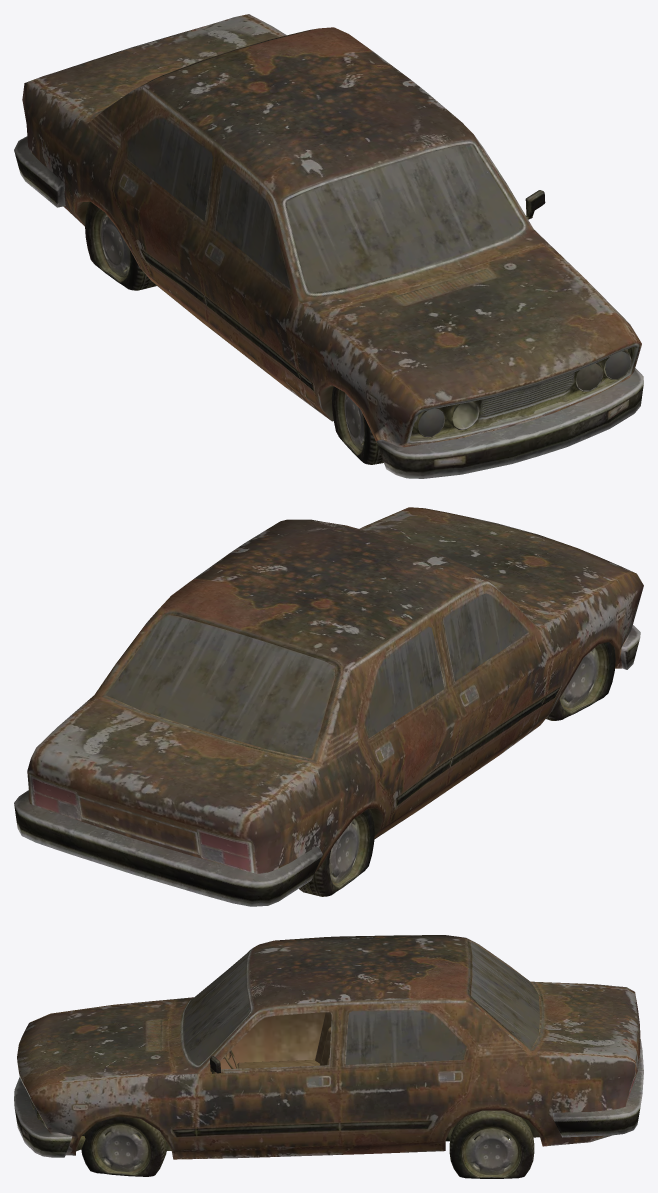
Rendered from car3_fiat132_rust.glb.
3 views of the same model, one above another, from view 1: azimuth 30°, elevation 25°; view 2: azimuth 150°, elevation 25°; view 3: azimuth 270°, elevation 25° (orthographic). The views are drawn at different scales.
Visible parts, largest first — view 1: Object_2; view 2: Object_2; view 3: Object_2.
Part boxes in pixels (x1,y1,x2,y2): Object_2: [14, 14, 643, 478]; Object_2: [14, 507, 643, 906]; Object_2: [14, 935, 643, 1178].
Bounding box in the file's own units: 1.69 × 1.32 × 4.4.
Materials: 1 (1 with a texture image).
